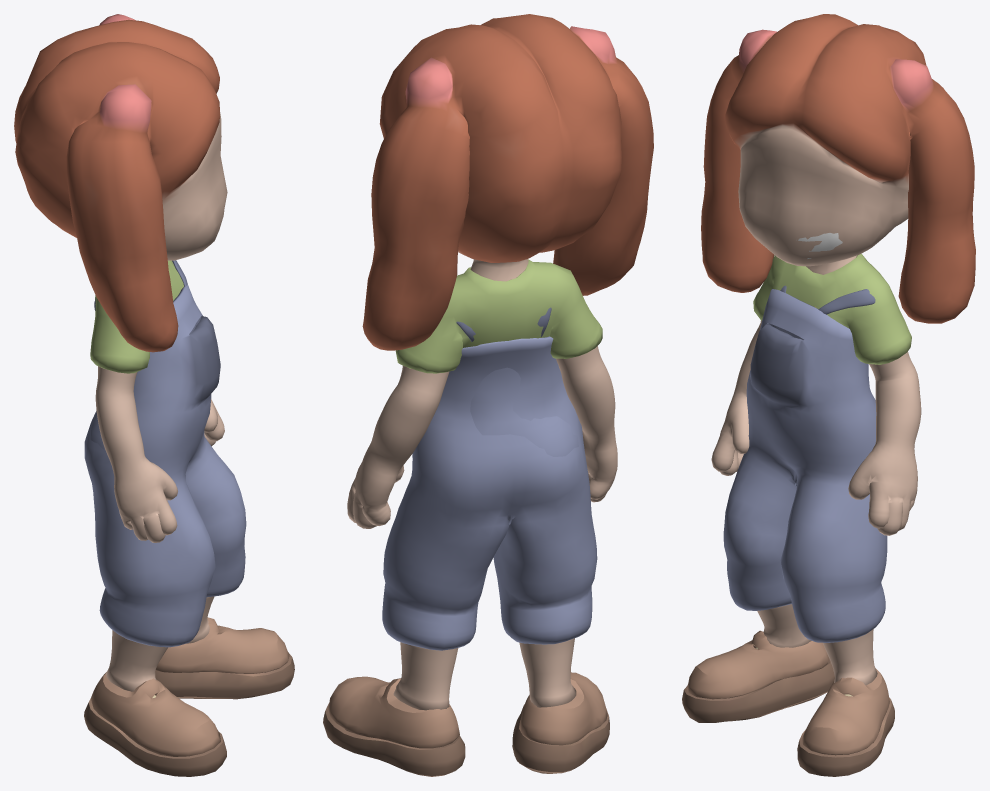
The picture shows the model from 3 angles, left to right: view 1: azimuth 30°, elevation 25°; view 2: azimuth 150°, elevation 25°; view 3: azimuth 270°, elevation 25°; orthographic projection. The views are drawn at different scales.
Visible parts, largest first — view 1: Arms.027; view 2: Arms.027; view 3: Arms.027.
Part boxes in pixels (x1,y1,x2,y2): Arms.027: (14,14,294,776); Arms.027: (323,14,653,776); Arms.027: (682,14,975,776).
Bounding box in the file's own units: 66.19 × 164 × 63.96.
